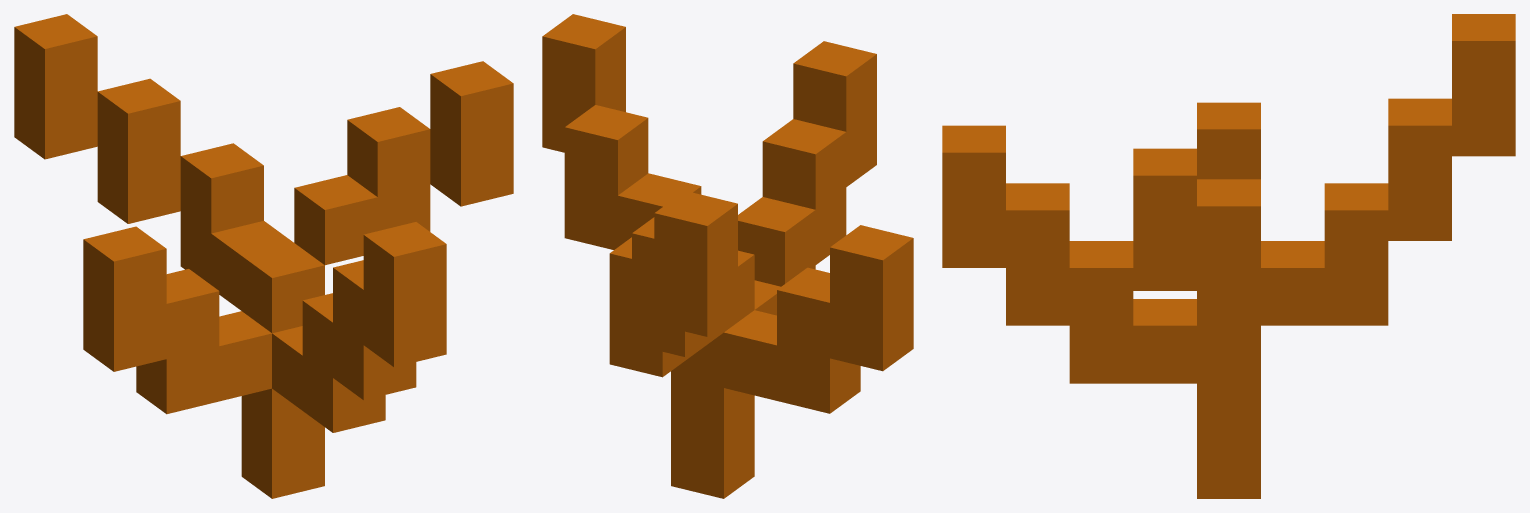
The model's file is bigdeadbrush.obj.
The picture shows the model from 3 angles, left to right: view 1: azimuth 30°, elevation 25°; view 2: azimuth 150°, elevation 25°; view 3: azimuth 270°, elevation 25°; orthographic projection. The views are drawn at different scales.
Bounding box in the file's own units: 0.7 × 0.7 × 0.9.
Materials: 1 (1 with a texture image).
